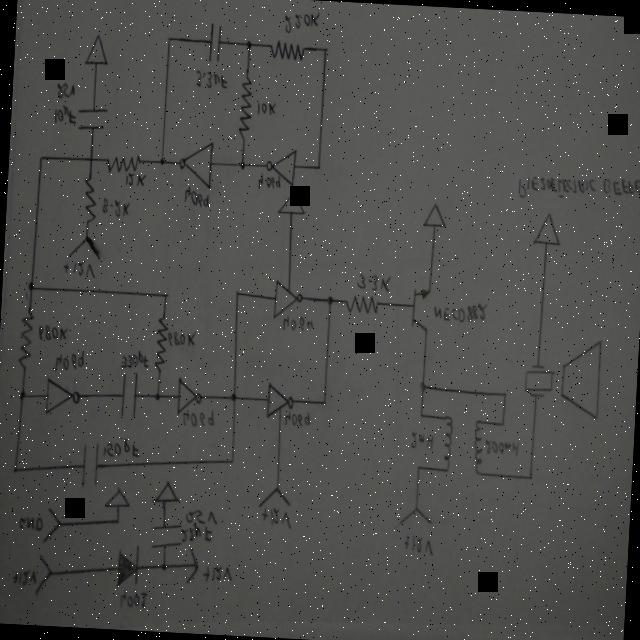capacitor: (146, 512, 182, 556), (76, 440, 100, 490), (116, 370, 139, 420), (75, 104, 107, 134), (205, 20, 222, 64)
crossover: (84, 152, 98, 166)
diode: (110, 538, 144, 590)
ground: (526, 210, 564, 252), (274, 187, 306, 220), (148, 476, 181, 508), (100, 483, 132, 512), (419, 200, 448, 230), (83, 32, 107, 67)
inductor: (438, 412, 457, 476), (468, 416, 485, 479)
junction: (414, 379, 430, 396), (23, 278, 38, 296), (322, 291, 336, 308), (15, 389, 28, 405), (162, 30, 175, 46), (226, 388, 238, 405), (236, 156, 248, 172), (157, 560, 169, 576), (241, 36, 254, 50), (498, 389, 511, 403), (150, 390, 162, 404), (525, 469, 537, 483), (226, 453, 237, 468), (232, 286, 243, 300), (318, 396, 329, 410), (156, 155, 167, 168), (497, 418, 508, 431), (10, 463, 20, 477), (319, 44, 329, 56), (313, 161, 323, 173), (412, 462, 423, 472), (160, 290, 170, 300), (36, 152, 44, 164), (416, 408, 425, 418), (112, 516, 120, 526)
resistor: (232, 71, 255, 146), (13, 306, 36, 374), (149, 310, 170, 378), (100, 150, 144, 178), (341, 292, 384, 316), (267, 39, 307, 63), (80, 173, 97, 227)
terminal: (394, 498, 436, 530), (255, 482, 295, 512), (65, 232, 104, 262), (33, 552, 56, 598), (40, 504, 64, 546), (181, 546, 202, 588)
text: (512, 164, 640, 208), (429, 298, 488, 326), (99, 436, 141, 460), (50, 347, 86, 375), (398, 532, 434, 560), (59, 258, 97, 284), (282, 10, 320, 36), (352, 270, 393, 294), (257, 505, 292, 532), (278, 312, 316, 336), (198, 561, 234, 586), (191, 68, 228, 92), (481, 436, 520, 458), (179, 406, 214, 429), (178, 523, 214, 545), (178, 186, 211, 210), (33, 322, 68, 344), (116, 588, 147, 612), (118, 348, 149, 372), (182, 506, 218, 526), (100, 196, 130, 220), (406, 428, 436, 452), (280, 408, 312, 430), (165, 328, 196, 349), (14, 513, 44, 534), (254, 171, 282, 192), (10, 566, 36, 588), (252, 98, 278, 120), (121, 170, 148, 190), (52, 104, 76, 125), (54, 80, 76, 102)
transistor: (407, 285, 436, 336)
